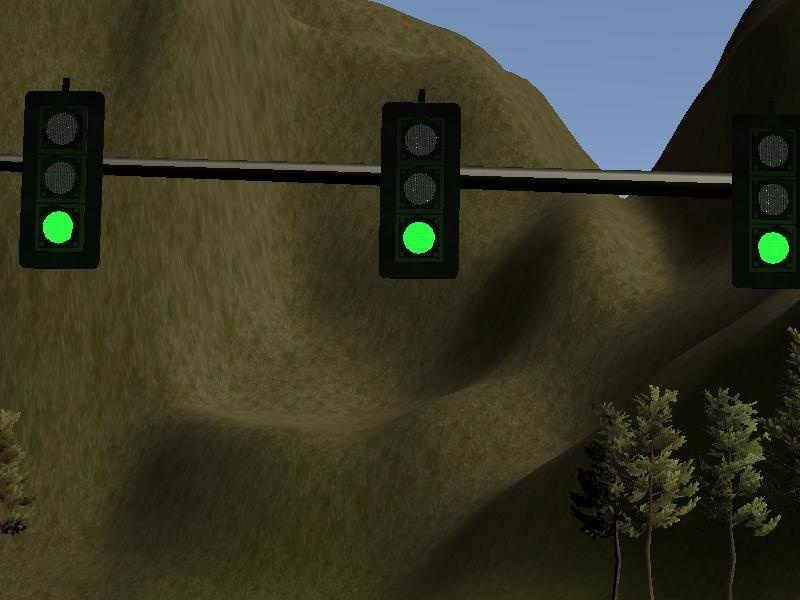GREEN: (380, 103, 461, 279), (20, 91, 101, 267), (732, 117, 800, 289)
